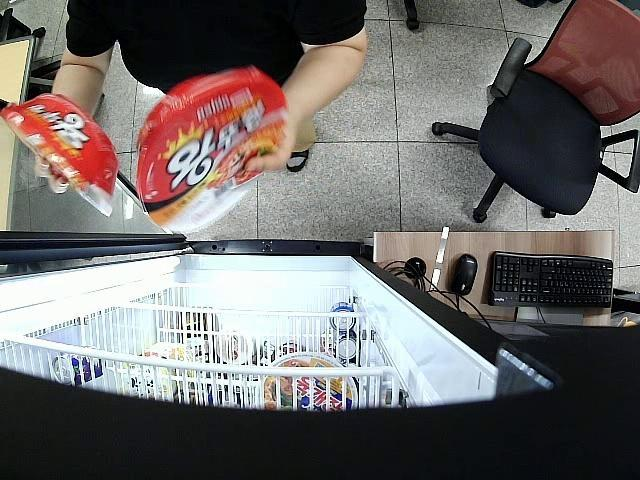10_wangTtukkeong: (137, 68, 286, 234), (0, 92, 121, 218)
